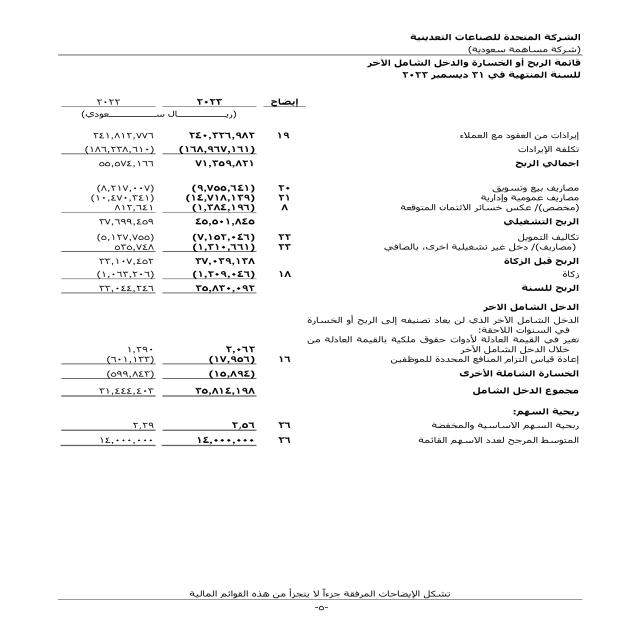financial_sheets: (360, 59, 589, 73)
table: (33, 90, 312, 457)
